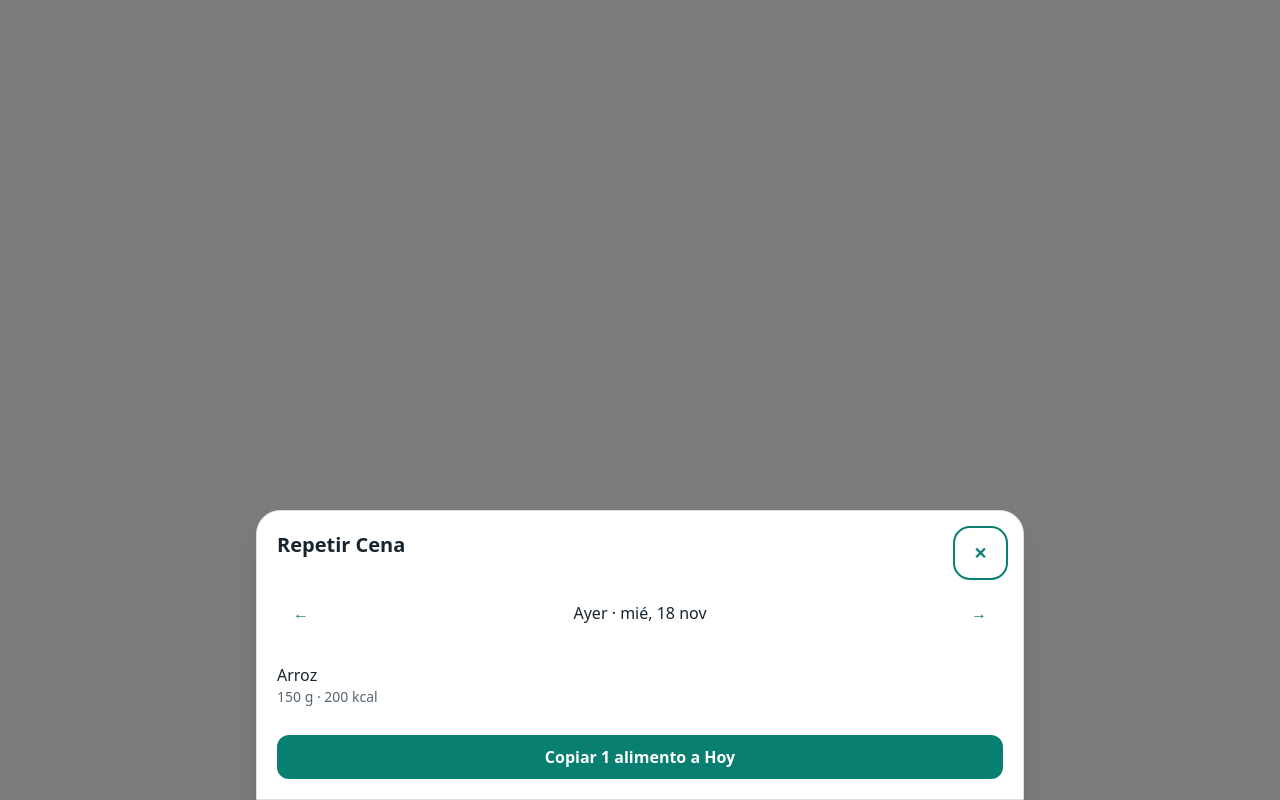
Test: waits for the destination summary before closing and showing the singular toast
The image size is (1280, 800).
Click the button "Copiar 1 alimento a Hoy" at (640, 757), box [277,735,1003,779]
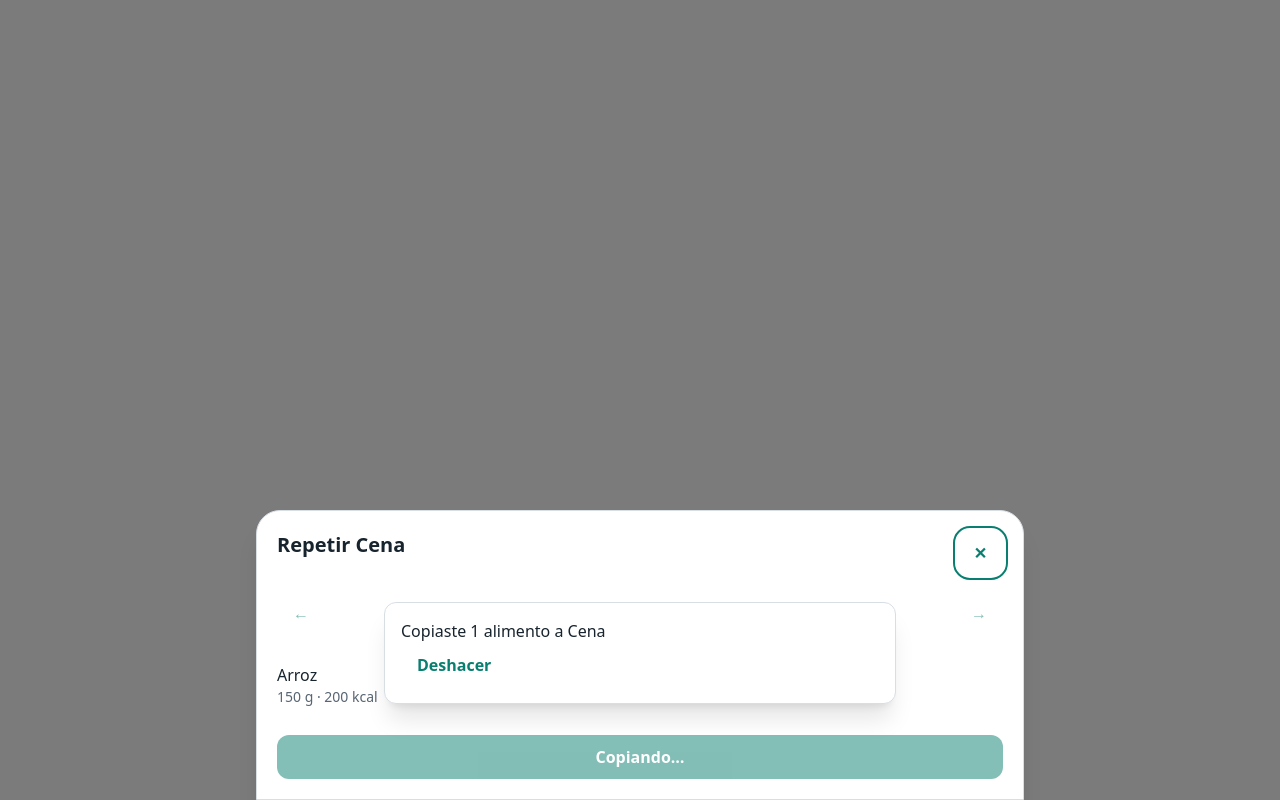
Expected: the button "Copiando…" is disabled, [277,735,1003,779]
Expected: the text "Copiaste 1 alimento a Cena" is shown, [401,620,606,642]
